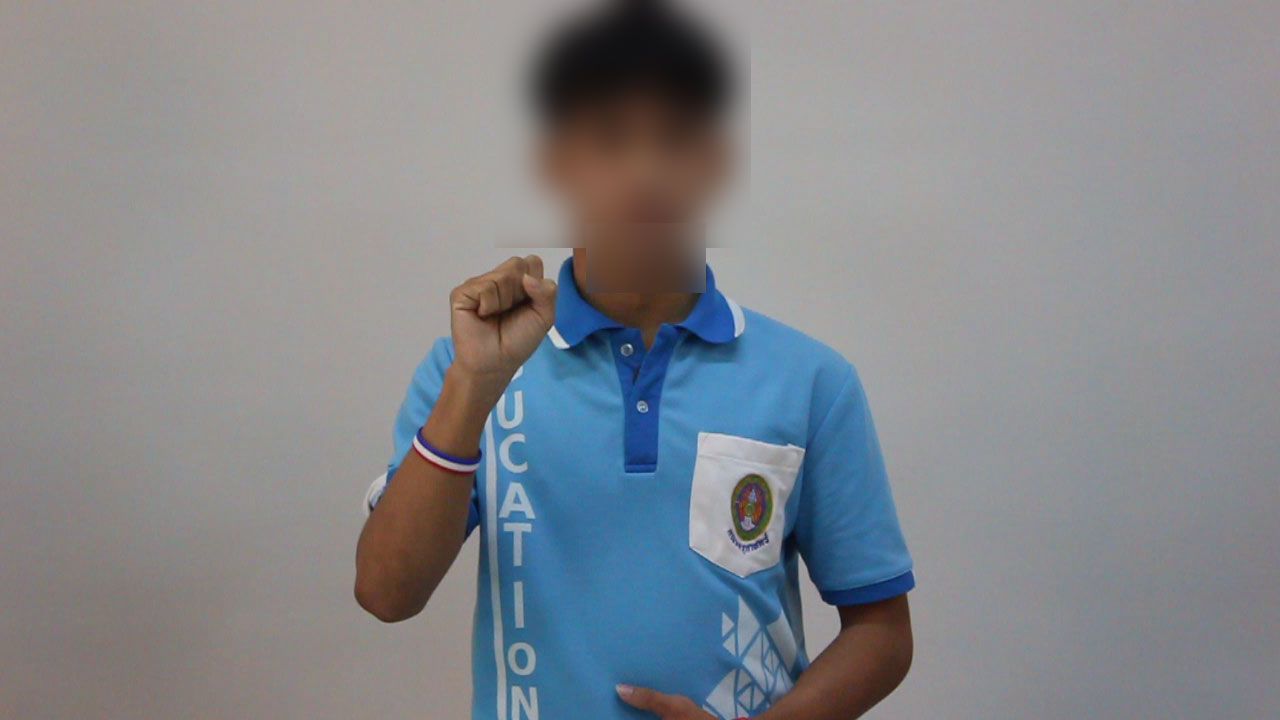sor: (439, 237, 575, 390)
